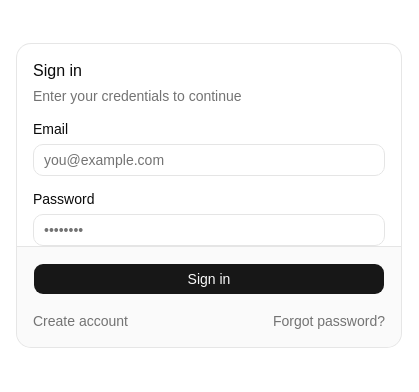
Test: LoginPage › shows error message when sign in returns an error
The width and height of the screenshot is (419, 392).
Step 1. Type "a@b.com" into the field labelled "Email" → [209, 160], box 33,144 -> 385,176
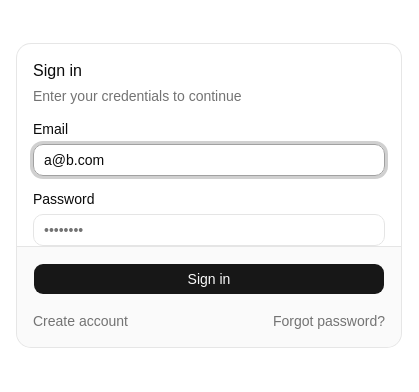
Step 2. Type "Wrongpass1" into the password field labelled "Password" → [209, 230], box 33,214 -> 385,246
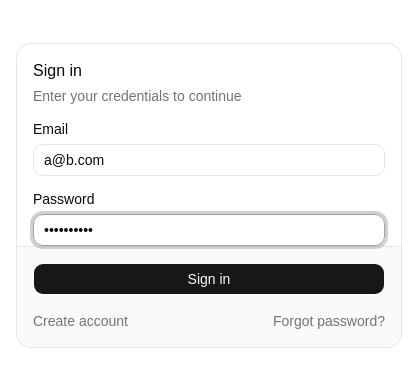
Step 3. Click the button "Sign in" → [209, 278], box 33,262 -> 385,294
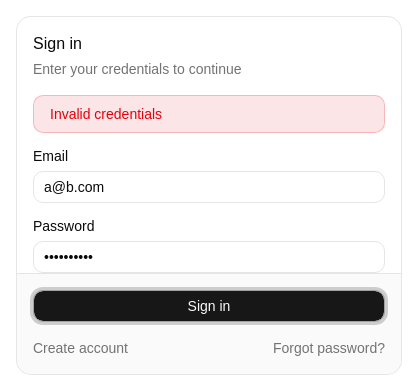
expect the text "Invalid credentials" is shown: met, box 33,94 -> 385,132
